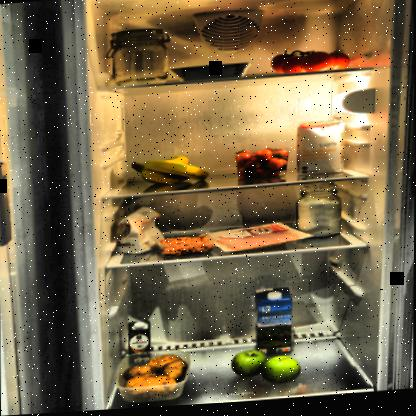apple: (231, 347, 308, 391)
banana: (129, 156, 213, 187)
heavy_cream: (127, 322, 151, 365)
milk: (254, 290, 298, 359)
potato: (118, 349, 192, 406)
shrimp: (160, 237, 216, 258)
strawberries: (231, 147, 292, 186)
tomato: (264, 45, 354, 80)
